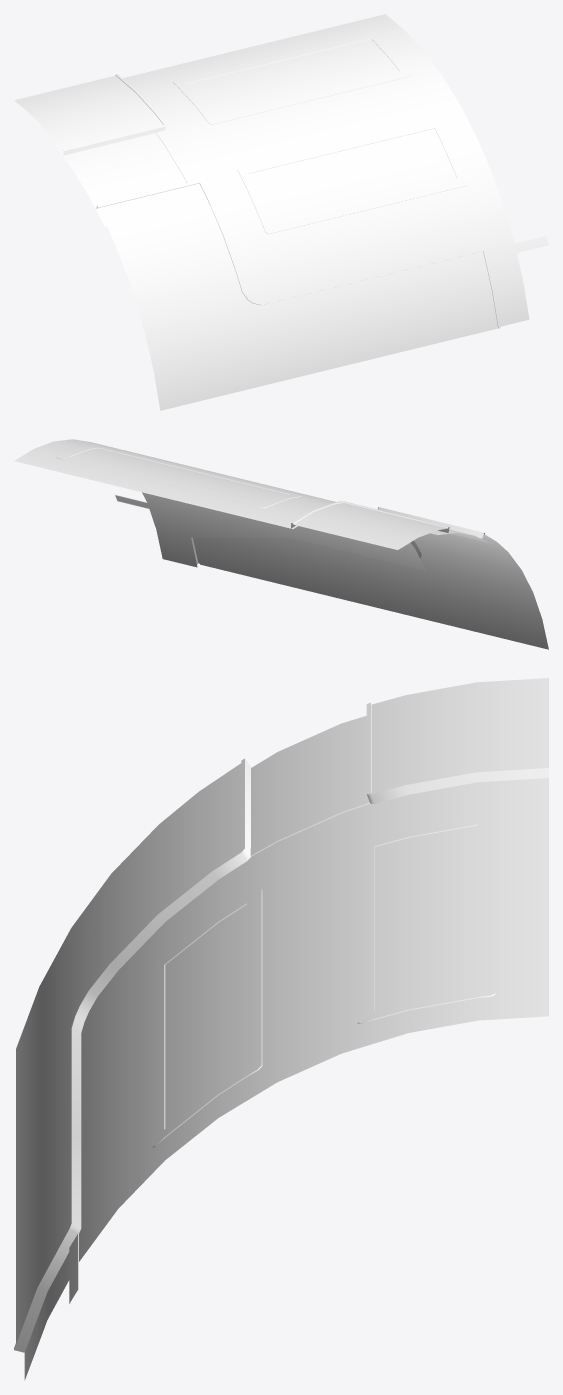
Rendered from grd_Ex_n_sw_0.dae.
3 views of the same model, one above another, from view 1: azimuth 30°, elevation 25°; view 2: azimuth 150°, elevation 25°; view 3: azimuth 270°, elevation 25° (orthographic). The views are drawn at different scales.
Parts seen in each view (by area): view 1: grass_0_0, road2_2_0, renga01_1_0, road2_3_0; view 2: grass_0_0, road2_2_0, renga01_1_0, road2_3_0; view 3: grass_0_0, road2_2_0, renga01_1_0, road2_3_0.
Boxes of the visible parts, <box> form: grass_0_0: <box>14,39,497,410</box>; road2_2_0: <box>52,14,514,301</box>; renga01_1_0: <box>62,32,548,328</box>; road2_3_0: <box>488,253,529,326</box>; grass_0_0: <box>70,448,548,649</box>; road2_2_0: <box>14,439,490,570</box>; renga01_1_0: <box>56,445,484,564</box>; road2_3_0: <box>147,503,285,567</box>; grass_0_0: <box>16,678,548,1342</box>; road2_2_0: <box>79,716,548,1261</box>; renga01_1_0: <box>14,702,548,1352</box>; road2_3_0: <box>24,1252,69,1380</box>.
Bounding box in the file's own units: 764 × 372 × 482.
4 materials, 1 textured.
